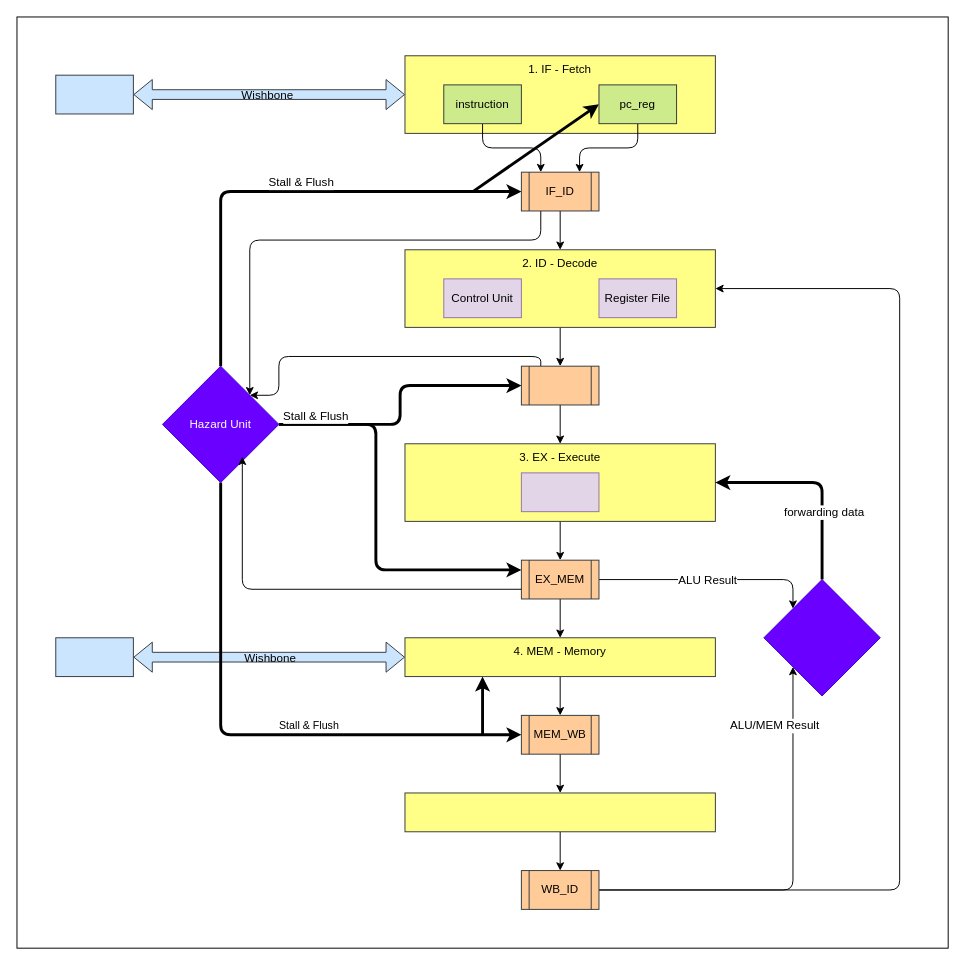
Image size: 965x965. Some labels were removed from this diagram. The centre of each missing label's shape, as x and y in pixels:
"5. WB - Writeback" belongs at (x=559, y=812).
"ALU" belongs at (x=559, y=492).
"DMEM Peripheral" belongs at (x=94, y=657).
"Forwarding Unit" belongs at (x=821, y=637).
"ID_EX" belongs at (x=559, y=385).
"IMEM" belongs at (x=94, y=94).
